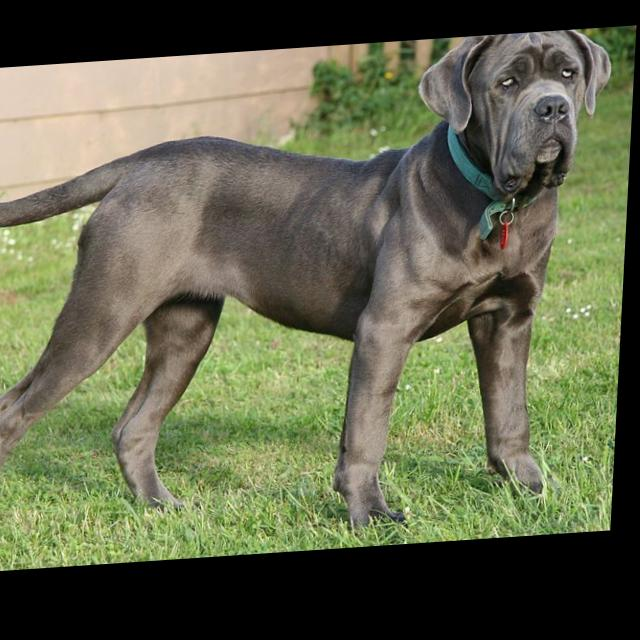mastino_napoletano: (1, 36, 616, 558)
